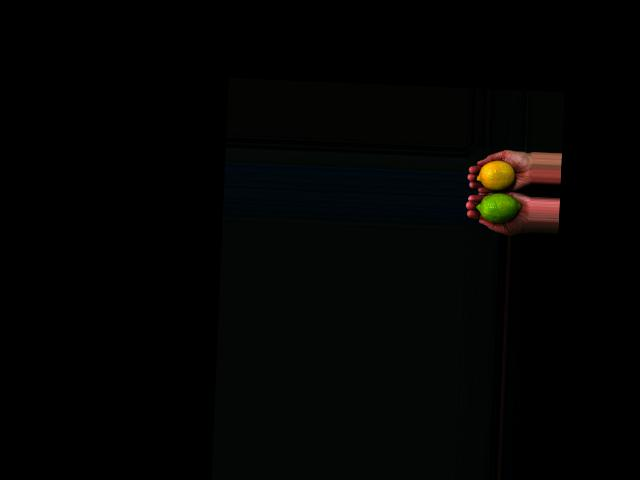lemon: (476, 160, 517, 191)
